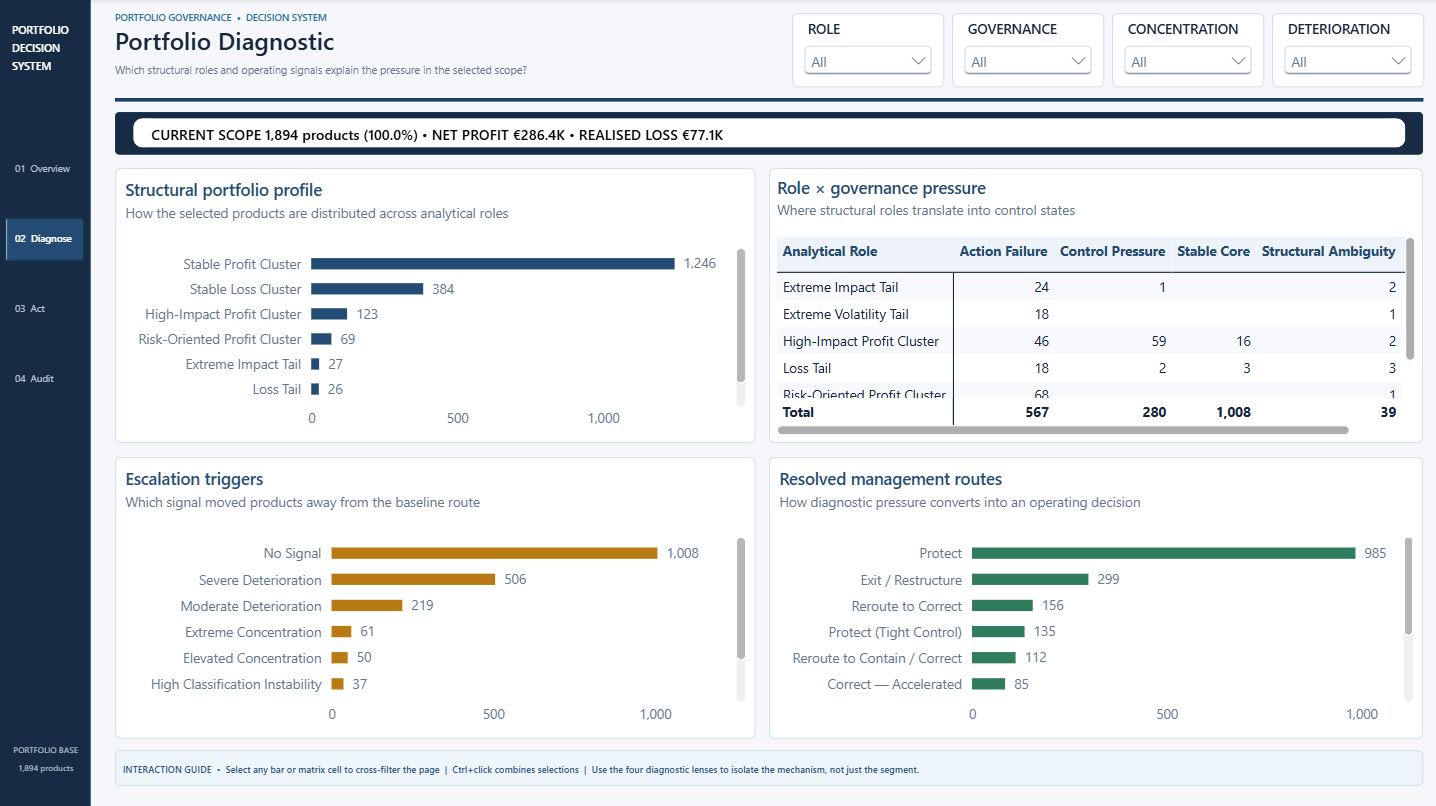

The page's visual inventory and layout, read from the dashboard file:
{"tool":"powerbi","page":{"name":"02 Portfolio Diagnostic","canvas":[1280,720],"ordinal":1},"visuals":[{"type":"shape","box":[0,0,82,720],"z":1000},{"type":"textbox","box":[12,18,60,62],"z":2000},{"type":"textbox","box":[15,140,57,20],"z":3000},{"type":"shape","box":[6,194,70,38],"z":4000},{"type":"shape","box":[6,194,3,38],"z":5000},{"type":"textbox","box":[15,202,57,20],"z":6000},{"type":"textbox","box":[15,264,57,20],"z":7000},{"type":"textbox","box":[15,326,57,20],"z":8000},{"type":"textbox","box":[12,655,60,42],"z":9000},{"type":"textbox","box":[104,6,560,16],"z":10000},{"type":"textbox","box":[104,22,575,31],"z":11000},{"type":"textbox","box":[104,53,575,22],"z":12000},{"type":"slicer","fields":{"Values":["Products.Analytical Role"]},"box":[704,12,135,66],"z":13000},{"type":"slicer","fields":{"Values":["Products.Governance State"]},"box":[846,12,135,66],"z":14000},{"type":"slicer","fields":{"Values":["Products.Concentration Level"]},"box":[988,12,135,66],"z":15000},{"type":"slicer","fields":{"Values":["Products.Deterioration Level"]},"box":[1130,12,135,66],"z":16000},{"type":"shape","box":[104,88,1160,3],"z":17000},{"type":"shape","box":[104,100,1160,38],"z":18000},{"type":"cardVisual","fields":{"Data":["Products.Scope Snapshot"]},"box":[118,104,1132,30],"z":19000},{"type":"barChart","title":"Structural portfolio profile","fields":{"Category":["Products.Analytical Role"],"Y":["Products.Product Count"]},"box":[104,150,568,244],"z":20000},{"type":"pivotTable","title":"Role × governance pressure","fields":{"Rows":["Products.Analytical Role"],"Columns":["Products.Governance State"],"Values":["Products.Product Count"]},"box":[684,150,580,244],"z":21000},{"type":"barChart","title":"Escalation triggers","fields":{"Category":["Products.Primary Signal"],"Y":["Products.Product Count"]},"box":[104,406,568,250],"z":22000},{"type":"barChart","title":"Resolved management routes","fields":{"Category":["Products.Final Intervention"],"Y":["Products.Product Count"]},"box":[684,406,580,250],"z":23000},{"type":"textbox","box":[104,666,1160,32],"z":24000}]}

Visuals, with their boxes on the page's 1280x720 design canvas (x1, y1, x2, y2). These are canvas units, not pixel positions in the 1436x806 screenshot, which may show the page scaled, cropped or inside an application window:
shape: 0 0 82 720
textbox: 12 18 72 80
textbox: 15 140 72 160
shape: 6 194 76 232
shape: 6 194 9 232
textbox: 15 202 72 222
textbox: 15 264 72 284
textbox: 15 326 72 346
textbox: 12 655 72 697
textbox: 104 6 664 22
textbox: 104 22 679 53
textbox: 104 53 679 75
slicer - Products.Analytical Role: 704 12 839 78
slicer - Products.Governance State: 846 12 981 78
slicer - Products.Concentration Level: 988 12 1123 78
slicer - Products.Deterioration Level: 1130 12 1265 78
shape: 104 88 1264 91
shape: 104 100 1264 138
cardVisual - Products.Scope Snapshot: 118 104 1250 134
"Structural portfolio profile" barChart: 104 150 672 394
"Role × governance pressure" pivotTable: 684 150 1264 394
"Escalation triggers" barChart: 104 406 672 656
"Resolved management routes" barChart: 684 406 1264 656
textbox: 104 666 1264 698
